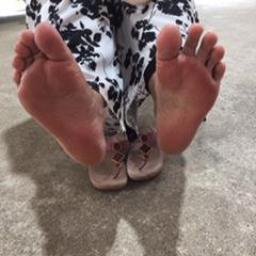Plantar View -Both Feet-: (4, 12, 230, 177)
